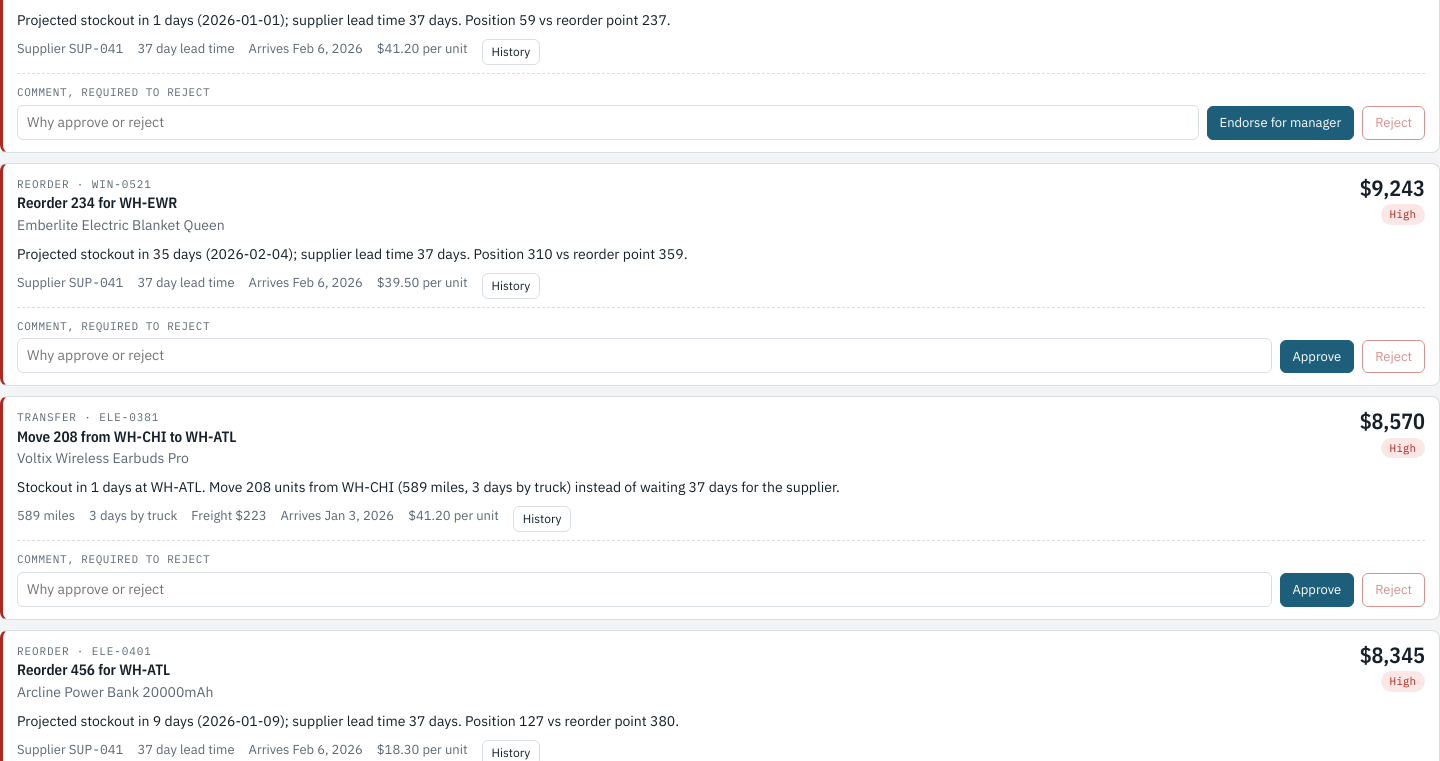
it: approval inbox role rules › lets a planner approve a small order and reports the draft order
The image size is (1440, 761).
(page scrolled)
Click the button "Approve" below "$9,243": [1317, 357] box [1280,340,1354,373]
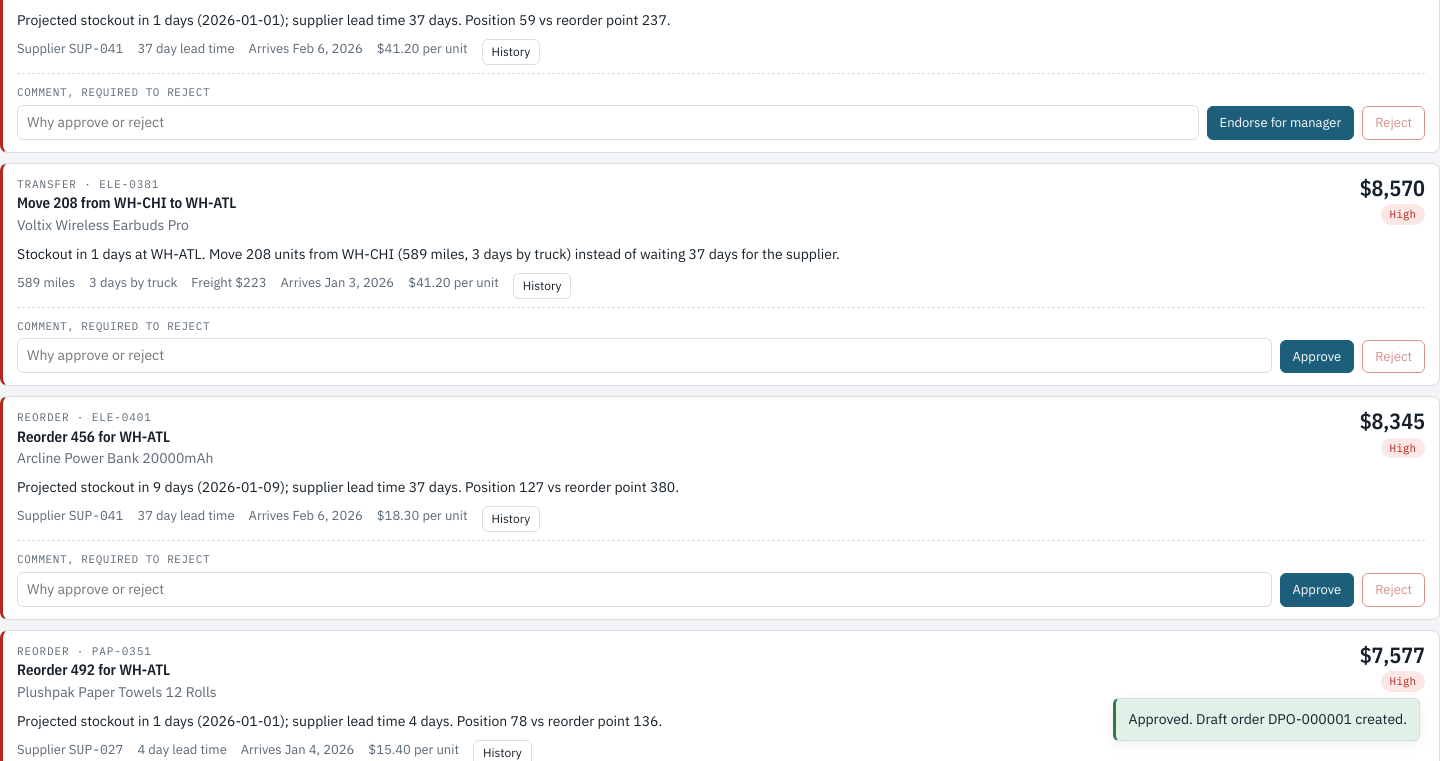
Expected: the text "Approved. Draft order DPO-000001 created." is shown, [1113,698,1420,741]
